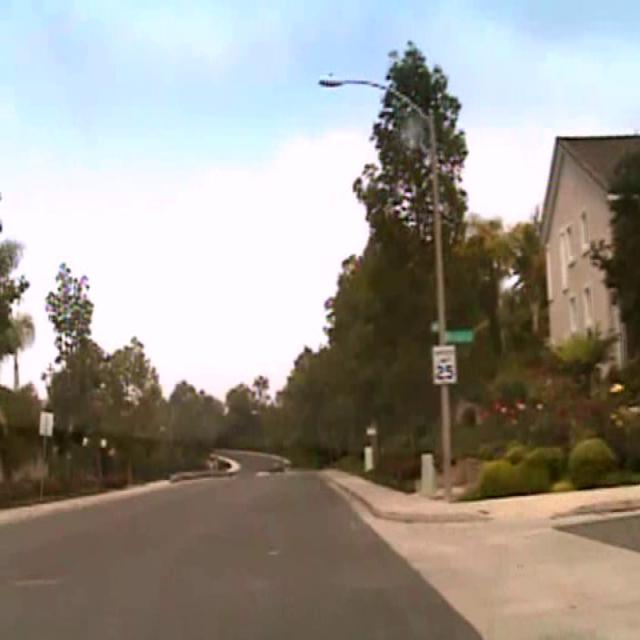speedLimit25: (431, 344, 456, 385)
